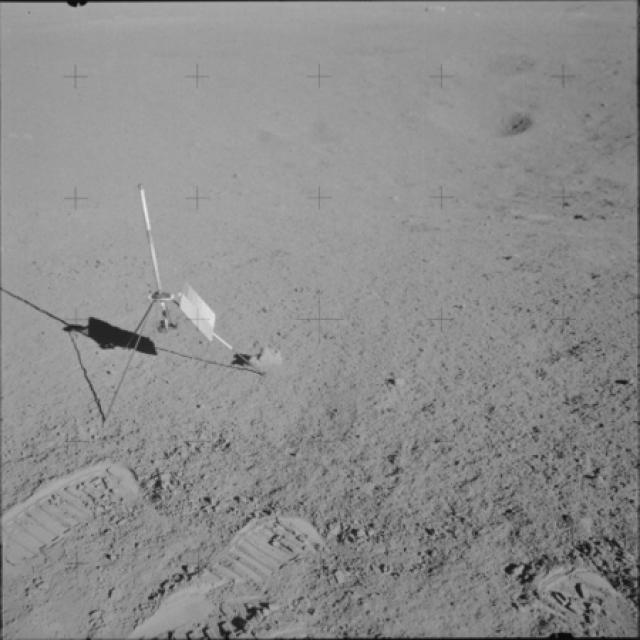crater: (424, 91, 547, 154), (449, 44, 556, 88)
